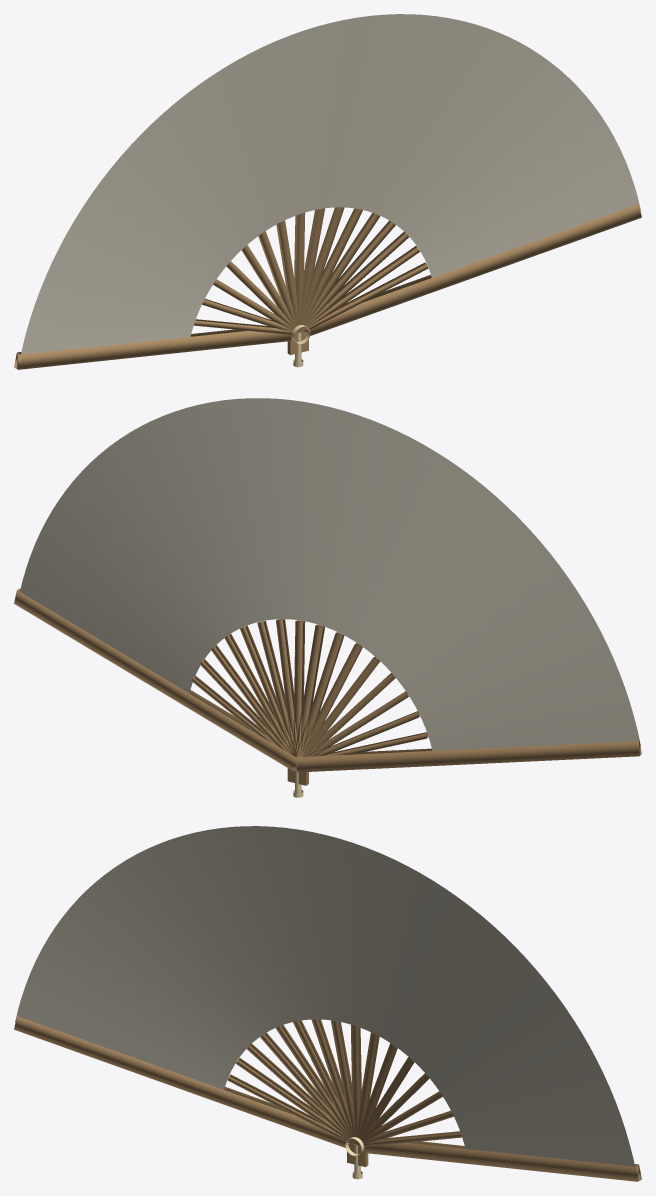
The model's file is fan.glb.
3 views of the same model, one above another, from view 1: azimuth 30°, elevation 25°; view 2: azimuth 150°, elevation 25°; view 3: azimuth 330°, elevation 25° (orthographic).
Parts seen in each view (by area): view 1: leaf, rib-17, rib-0, rib-10, rib-12, rib-11, rib-9, rib-13, rib-14, rib-8, rib-15, rib-16 (+7 smaller); view 2: leaf, rib-0, rib-17, rib-9, rib-8, rib-10, rib-7, rib-11, rib-12, rib-6, rib-13, rib-5 (+7 smaller); view 3: leaf, rib-0, rib-17, rib-7, rib-5, rib-6, rib-8, rib-4, rib-3, rib-9, rib-2, rib-1 (+7 smaller).
Boxes of the visible parts, bbox=[...] form: leaf: bbox=[19, 14, 640, 361]; rib-17: bbox=[307, 204, 641, 335]; rib-0: bbox=[14, 329, 291, 369]; rib-10: bbox=[299, 207, 344, 331]; rib-12: bbox=[300, 213, 380, 331]; rib-11: bbox=[300, 208, 362, 330]; rib-9: bbox=[299, 208, 324, 331]; rib-13: bbox=[300, 220, 395, 331]; rib-14: bbox=[300, 232, 408, 331]; rib-8: bbox=[294, 212, 305, 331]; rib-15: bbox=[301, 246, 419, 331]; rib-16: bbox=[301, 262, 428, 331]; leaf: bbox=[20, 398, 640, 750]; rib-0: bbox=[294, 739, 641, 772]; rib-17: bbox=[14, 588, 298, 771]; rib-9: bbox=[293, 620, 305, 756]; rib-8: bbox=[294, 624, 324, 756]; rib-10: bbox=[276, 619, 299, 756]; rib-7: bbox=[295, 632, 344, 756]; rib-11: bbox=[257, 620, 298, 756]; rib-12: bbox=[240, 625, 296, 756]; rib-6: bbox=[296, 643, 362, 757]; rib-13: bbox=[224, 634, 293, 752]; rib-5: bbox=[298, 657, 379, 756]; leaf: bbox=[15, 826, 636, 1173]; rib-0: bbox=[14, 1016, 348, 1147]; rib-17: bbox=[364, 1141, 641, 1181]; rib-7: bbox=[311, 1019, 356, 1143]; rib-5: bbox=[275, 1025, 355, 1143]; rib-6: bbox=[293, 1020, 355, 1142]; rib-8: bbox=[331, 1020, 356, 1143]; rib-4: bbox=[260, 1032, 355, 1143]; rib-3: bbox=[247, 1044, 355, 1143]; rib-9: bbox=[350, 1024, 361, 1143]; rib-2: bbox=[236, 1058, 354, 1143]; rib-1: bbox=[227, 1074, 354, 1143].
Size of the model in its own units: 240 by 134 by 22.92.
